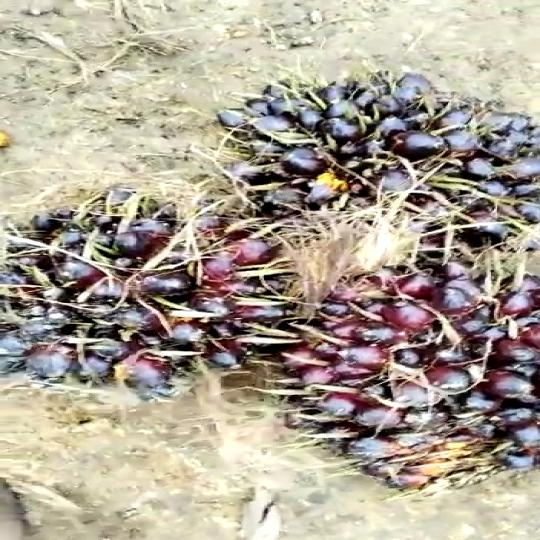mentah: (268, 240, 540, 500), (0, 179, 279, 419), (209, 69, 540, 259)
